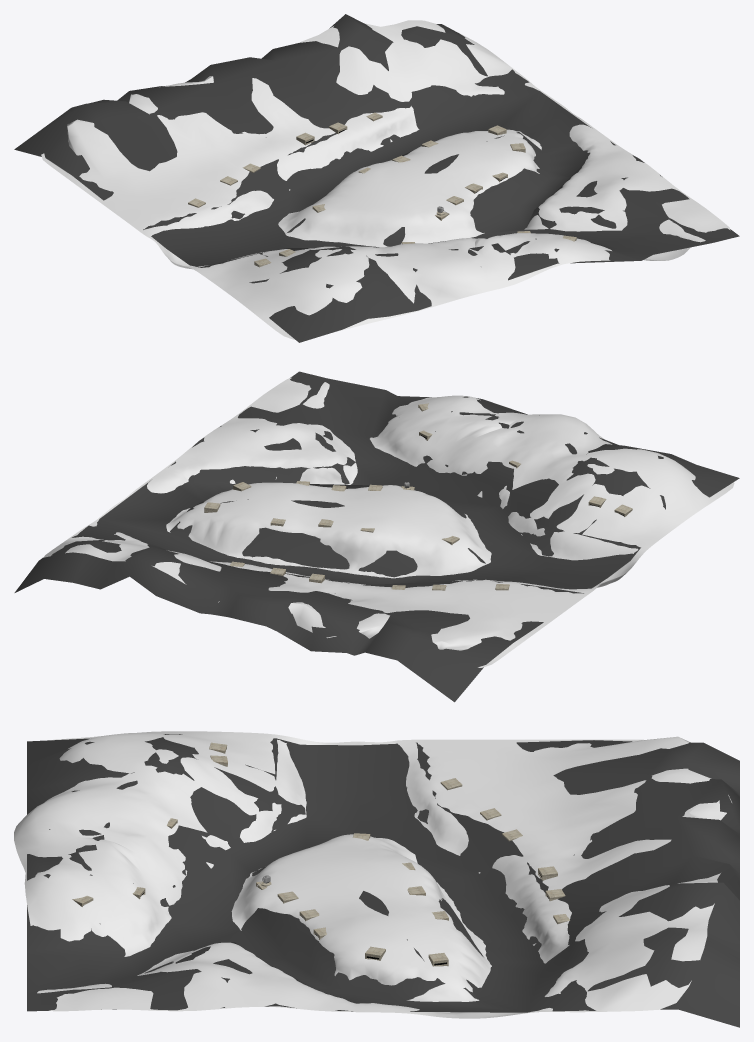
File: EnvironmentWip2.fbx
The picture shows the model from 3 angles, top to bottom: view 1: azimuth 30°, elevation 25°; view 2: azimuth 150°, elevation 25°; view 3: azimuth 270°, elevation 25°; orthographic projection. The views are drawn at different scales.
Visible parts, largest first — view 1: Plane, Plane.001; view 2: Plane, Plane.001; view 3: Plane, Plane.001.
Part boxes in pixels (x1,y1,x2,y2): Plane: (41, 20, 730, 339); Plane.001: (14, 14, 739, 342); Plane: (43, 377, 734, 667); Plane.001: (14, 371, 739, 702); Plane: (14, 731, 731, 1018); Plane.001: (27, 734, 739, 1027).
Size of the model in its own units: 1217 by 182 by 1351.
